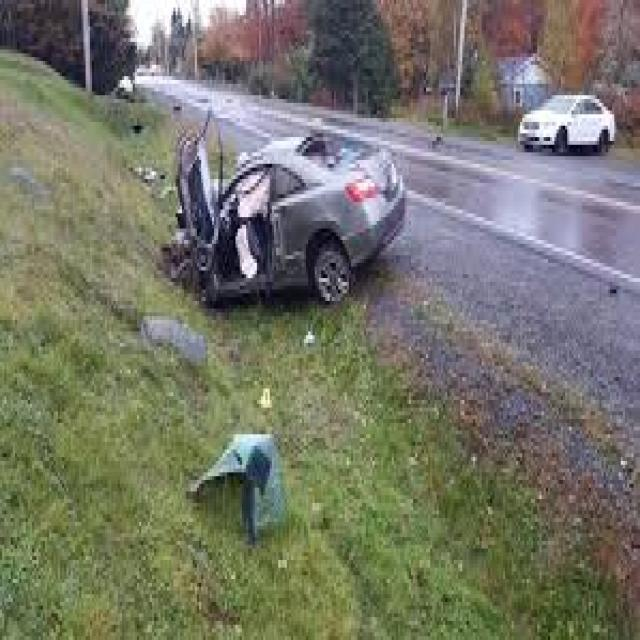accident: (140, 128, 424, 336)
